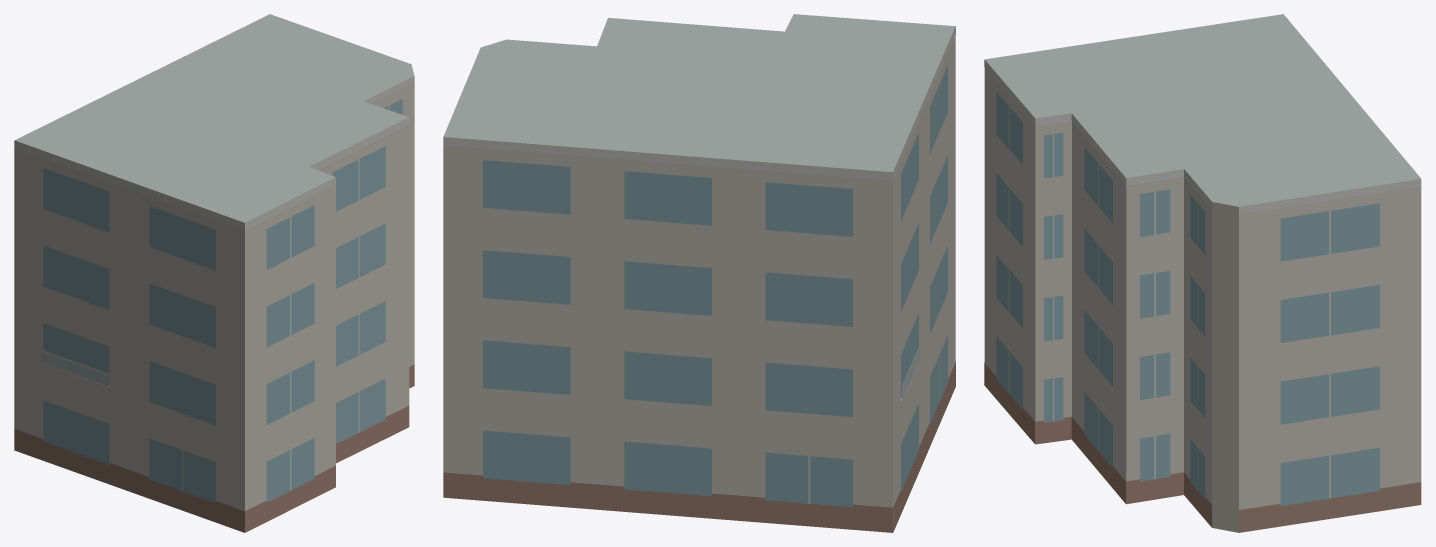
File: survey-upis-32998675.glb
3 renders of one model, left to right at view 1: azimuth 30°, elevation 25°; view 2: azimuth 150°, elevation 25°; view 3: azimuth 270°, elevation 25°, orthographic. The views are drawn at different scales.
Parts seen in each view (by area): view 1: survey-upis-32998675.tmp; view 2: survey-upis-32998675.tmp; view 3: survey-upis-32998675.tmp.
Part boxes in pixels (x1=…): survey-upis-32998675.tmp: x1=14, y1=14, x2=414, y2=532; survey-upis-32998675.tmp: x1=443, y1=14, x2=955, y2=532; survey-upis-32998675.tmp: x1=984, y1=14, x2=1421, y2=532.
Bounding box in the file's own units: 13.36 × 10.52 × 12.79.
